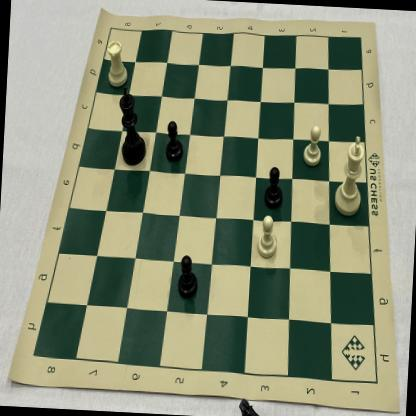black-king: (112, 84, 151, 173)
black-pawn: (174, 250, 201, 302), (260, 162, 284, 212), (162, 116, 184, 165)
white-king: (328, 132, 368, 222)
white-pawn: (252, 212, 280, 260), (300, 121, 326, 168)
white-rook: (101, 36, 130, 92)
